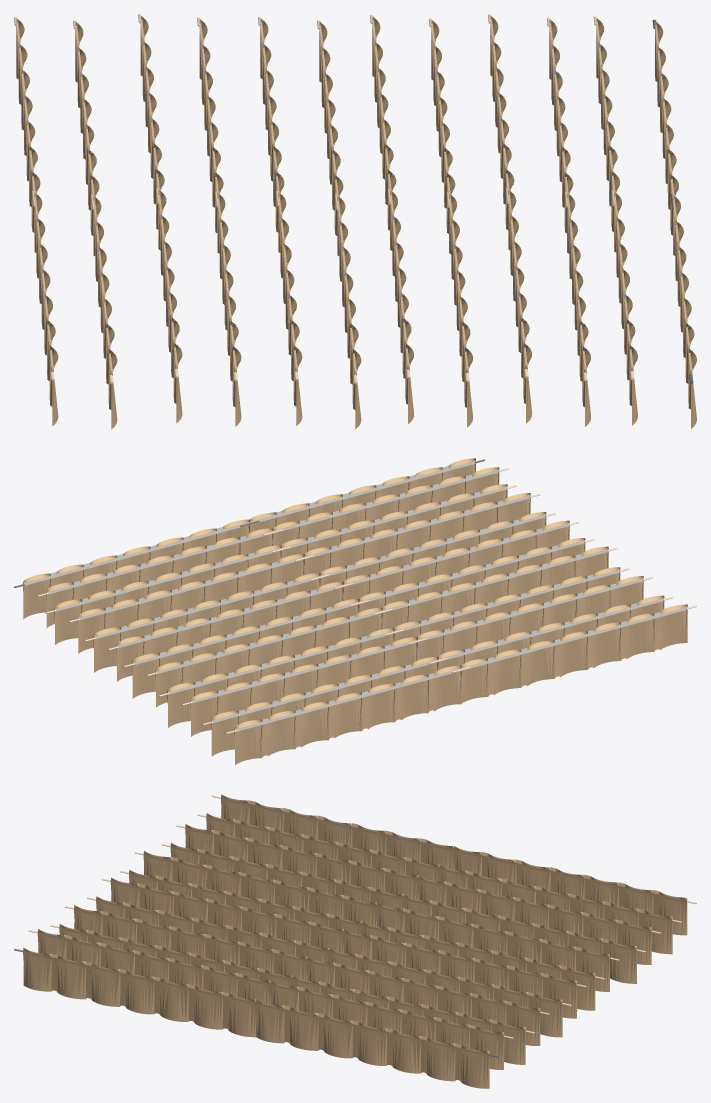
The model's file is lcdl4.gltf.
The picture shows the model from 3 angles, top to bottom: view 1: azimuth 30°, elevation 25°; view 2: azimuth 150°, elevation 25°; view 3: azimuth 270°, elevation 25°; orthographic projection. The views are drawn at different scales.
Parts seen in each view (by area): view 1: lcdl4.12; view 2: lcdl4.12; view 3: lcdl4.12.
Boxes of the visible parts, x1,y1,x2,y2 form: lcdl4.12: (14,14,696,429); lcdl4.12: (14,458,696,765); lcdl4.12: (14,794,696,1088).
Size of the model in its own units: 18.92 by 1.47 by 21.26.
36 materials, 1 textured.
